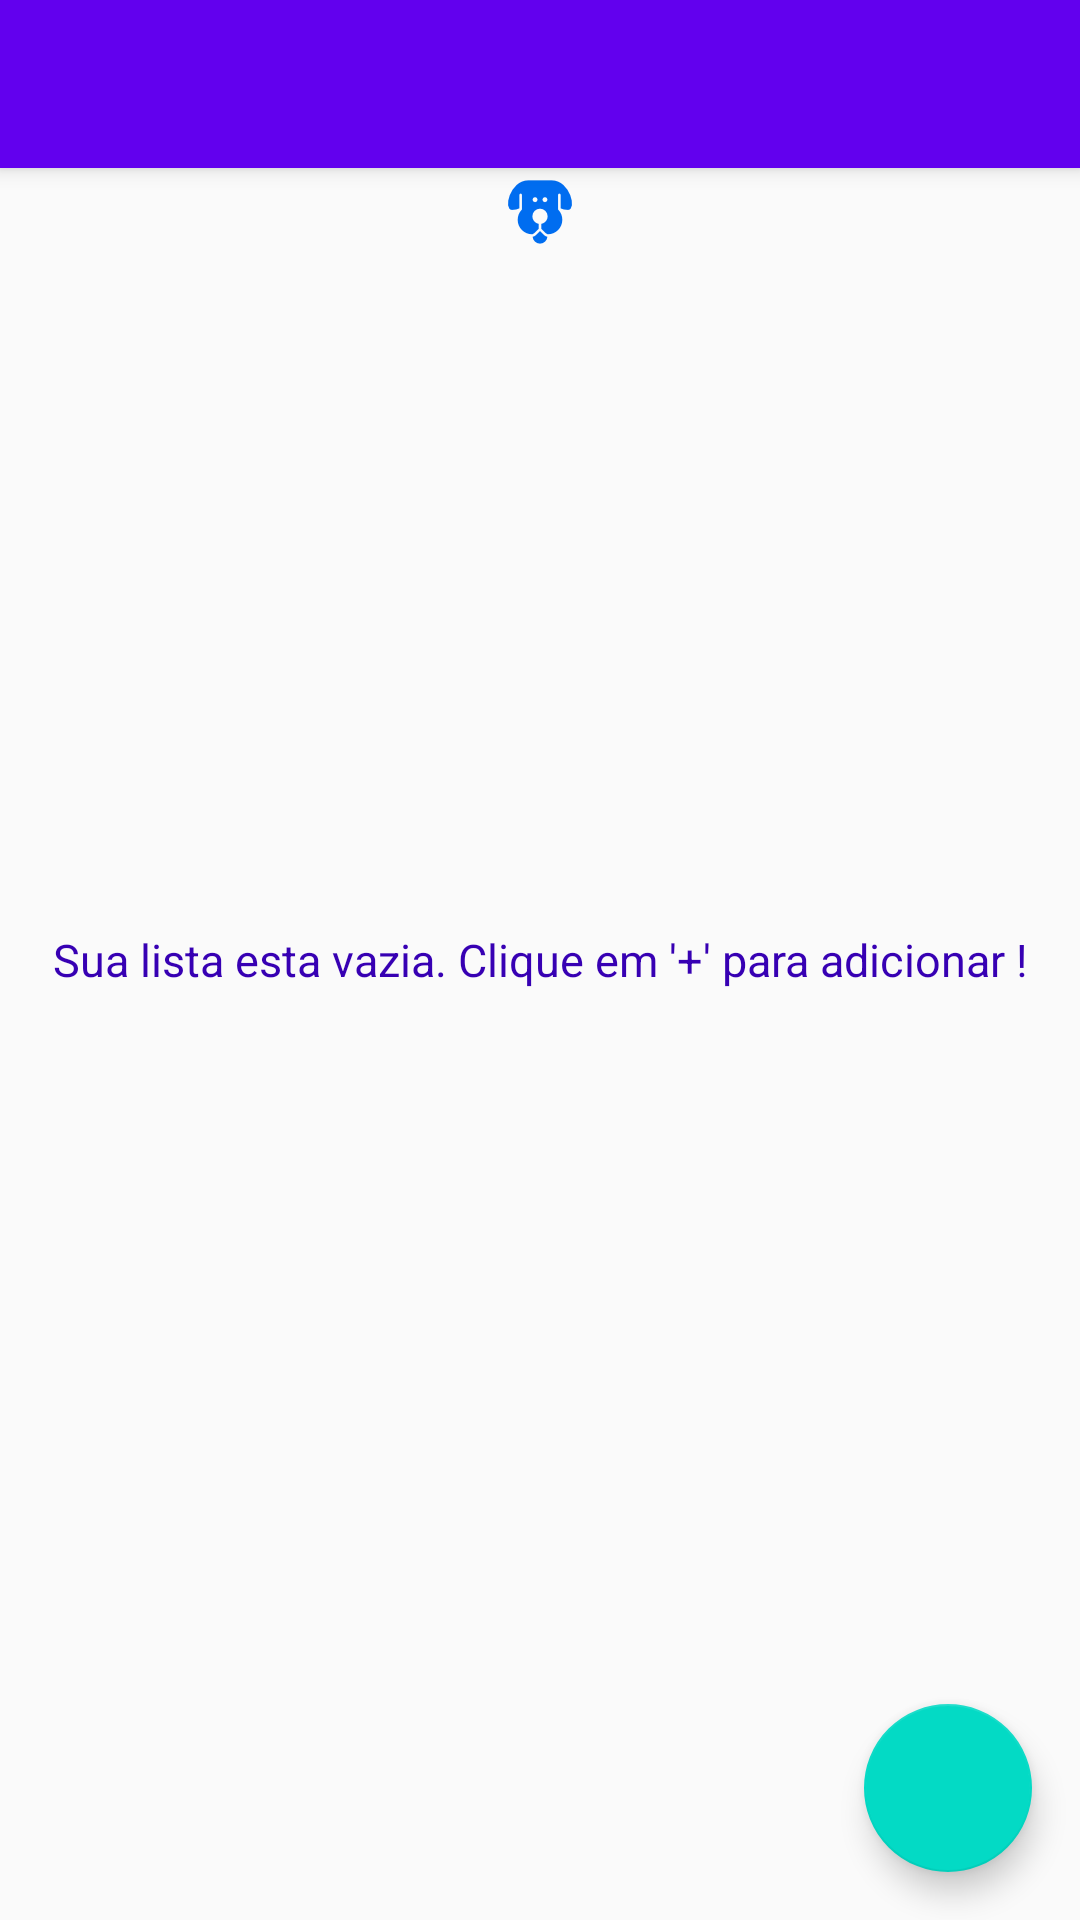

Named icons in this screenshot (1080w x 1920h) and their centers, point (x, y):
dog: point (540, 212)
